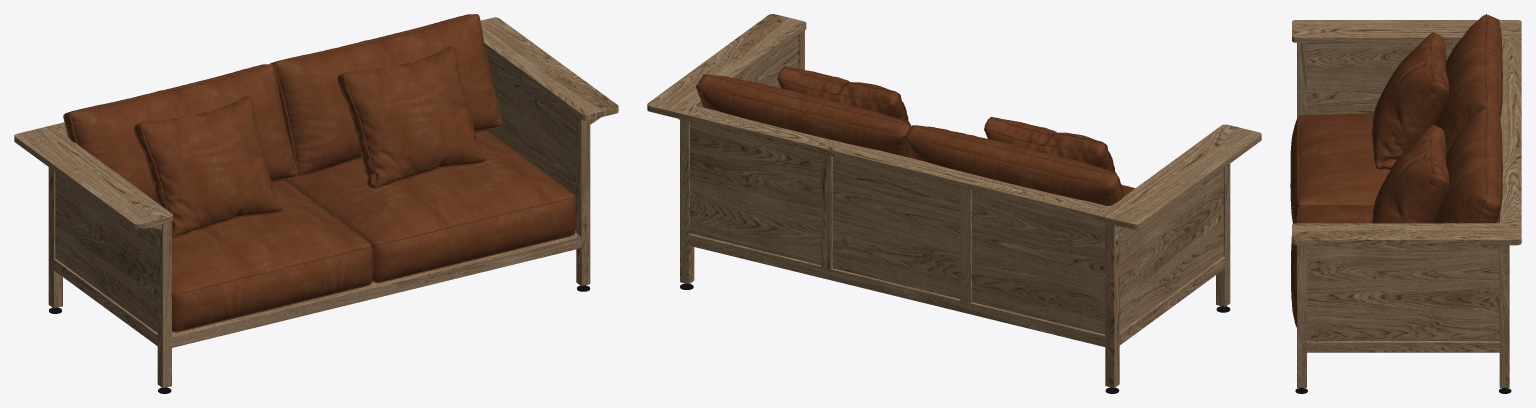
The model's file is sofa-42.glb.
The picture shows the model from 3 angles, left to right: view 1: azimuth 30°, elevation 25°; view 2: azimuth 150°, elevation 25°; view 3: azimuth 270°, elevation 25°; orthographic projection. The views are drawn at different scales.
Visible parts, largest first — view 1: Object004_Material #13_0, Object006_Material #13_0, Object003_19 - Default_0, 435_Material #13_0, Box019, 436_Material #13_0, Box020; view 2: Object003_19 - Default_0, Box020, Box019, 436_Material #13_0, 435_Material #13_0, Object006_Material #13_0; view 3: Object003_19 - Default_0, Box020, Object006_Material #13_0, Object004_Material #13_0, Box019, 435_Material #13_0, 436_Material #13_0.
Part boxes in pixels (x1,y1,x2,y2): Object004_Material #13_0: (172, 130, 576, 332); Object006_Material #13_0: (134, 46, 486, 237); Object003_19 - Default_0: (55, 50, 576, 332); 435_Material #13_0: (270, 14, 502, 176); Box019: (48, 116, 590, 388); 436_Material #13_0: (63, 64, 297, 202); Box020: (14, 17, 618, 229); Object003_19 - Default_0: (690, 35, 1223, 334); Box020: (647, 14, 1261, 229); Box019: (680, 30, 1230, 387); 436_Material #13_0: (904, 125, 1124, 205); 435_Material #13_0: (696, 74, 911, 158); Object006_Material #13_0: (777, 66, 1125, 195); Object003_19 - Default_0: (1307, 42, 1499, 340); Box020: (1292, 20, 1521, 245); Object006_Material #13_0: (1371, 32, 1449, 223); Object004_Material #13_0: (1290, 113, 1499, 327); Box019: (1297, 42, 1509, 387); 435_Material #13_0: (1432, 107, 1502, 223); 436_Material #13_0: (1435, 14, 1502, 153).
Size of the model in its own units: 2.01 by 0.8145 by 0.8939.
Materials: 3 (2 with a texture image).
